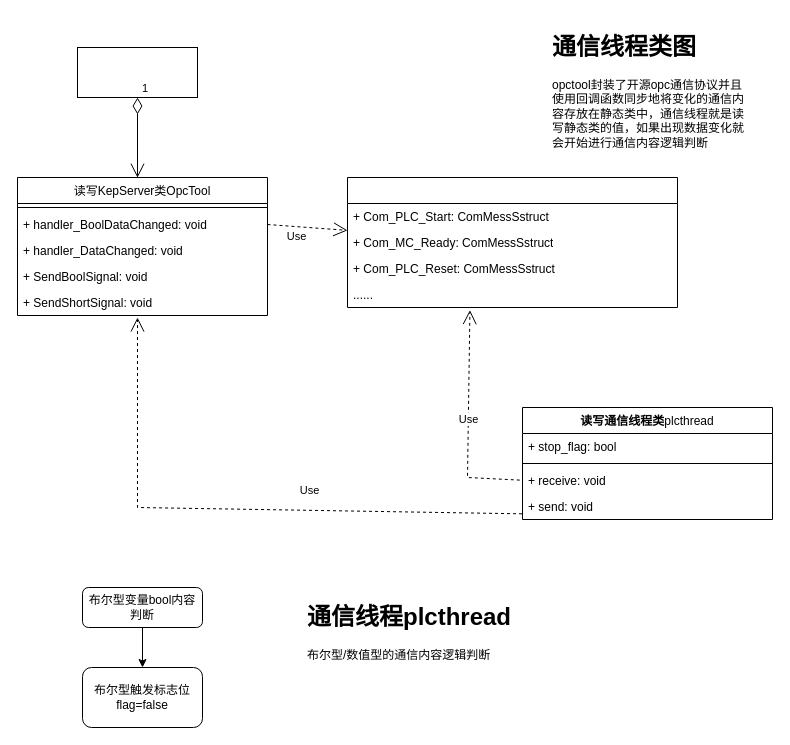
The diagram is 790 pixels wide and 745 high, and some of its shapes have lost their labels. The shapes that lost their labels are listed below. From the top down, each one's box as (x1, y1, x2, y2) in pixels, then its label:
(76, 46, 198, 98): 开源OPC客户端专用通信协议接口open62541
(346, 176, 678, 308): 静态类CommonModbus
